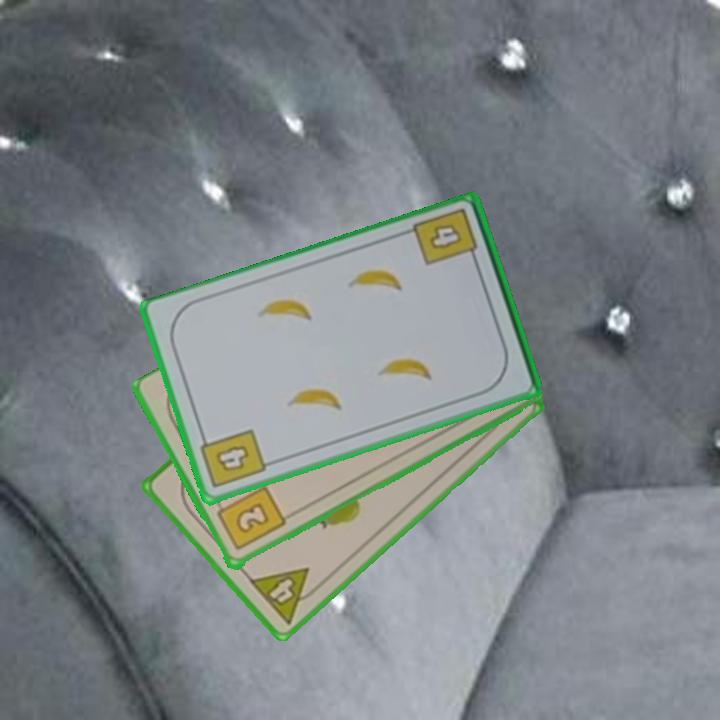2b: (212, 483, 289, 554)
4b: (196, 426, 269, 492), (410, 205, 481, 269)
4p: (245, 564, 326, 627)
